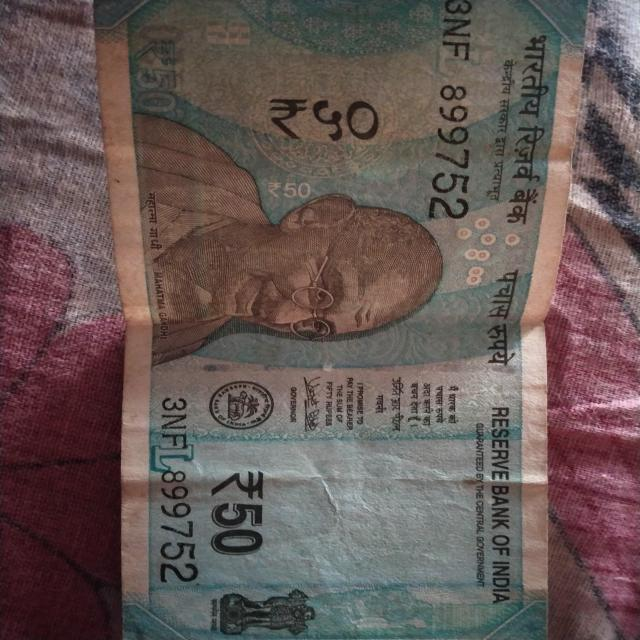50rs: (98, 2, 553, 638)
